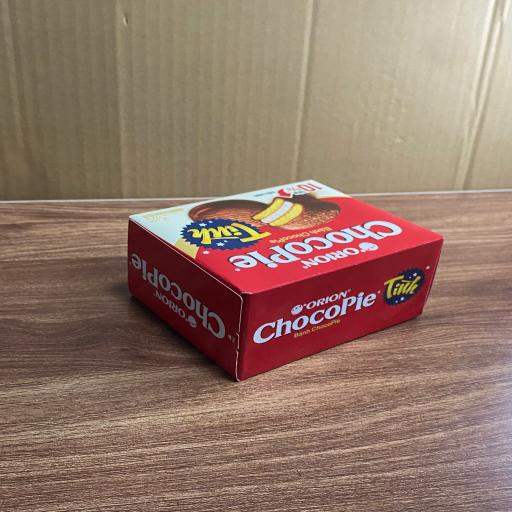chocopie: (128, 181, 446, 381)
